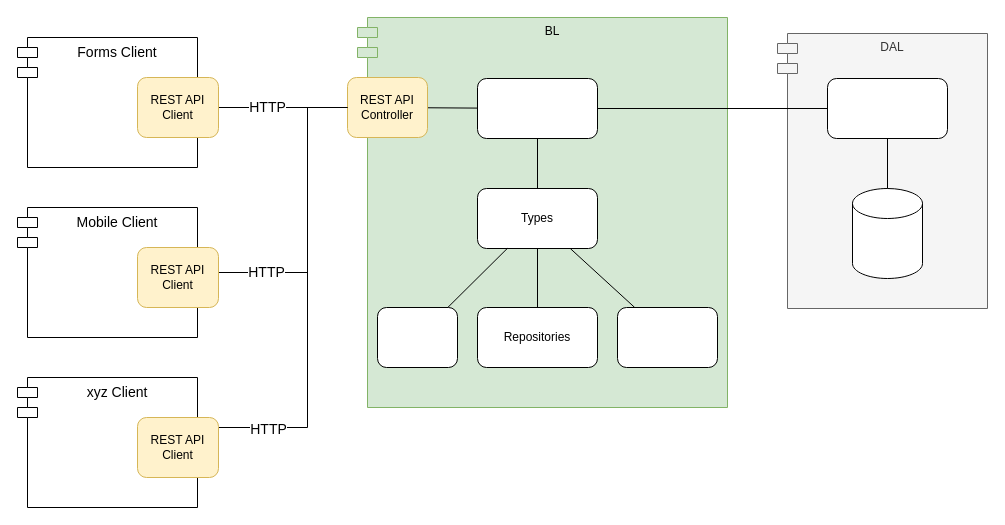
This 1005x525 diagram has some shape labels left out. The centre of each missing label's shape, as x and y in pixels:
Factories: (x=667, y=337)
Items: (x=417, y=337)
MongoDB: (x=887, y=233)
MongoDbRepository: (x=887, y=108)
PlaylistManager: (x=537, y=108)
